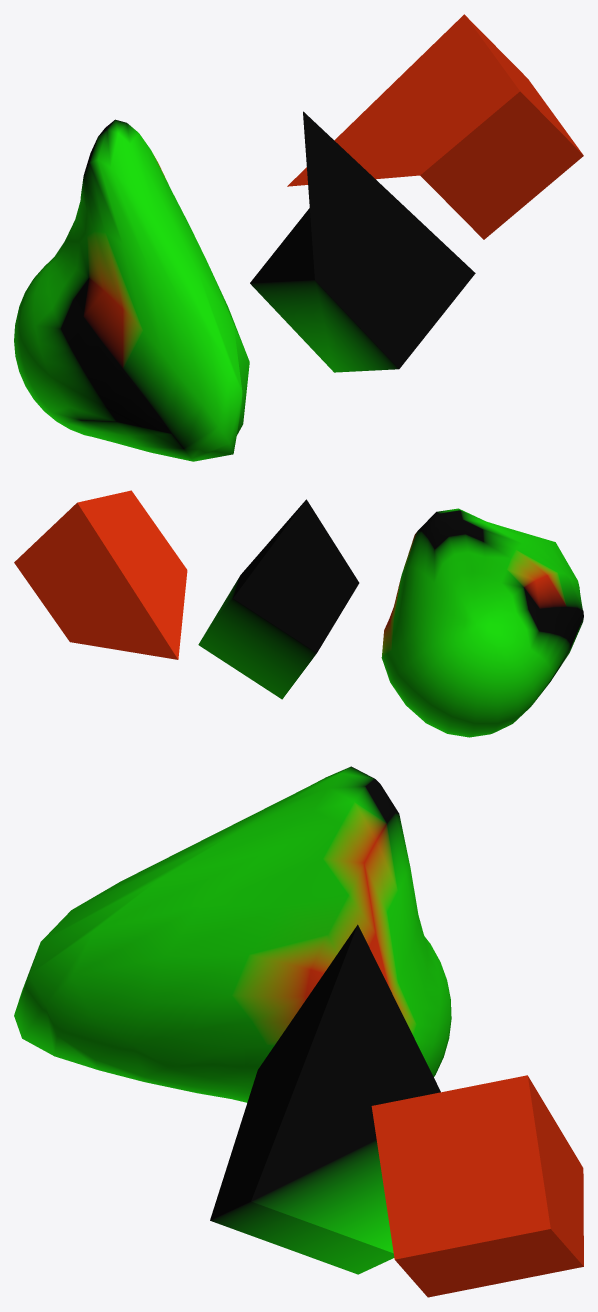
File: TestAllAttributes.fbx
3 views of the same model, one above another, from view 1: azimuth 30°, elevation 25°; view 2: azimuth 150°, elevation 25°; view 3: azimuth 270°, elevation 25° (orthographic). The views are drawn at different scales.
Parts seen in each view (by area): view 1: pCube3; view 2: pCube3; view 3: pCube3.
Part boxes in pixels (left/top/right/bottom): pCube3: left=14, top=14, right=583, bottom=461; pCube3: left=14, top=490, right=583, bottom=737; pCube3: left=14, top=766, right=583, bottom=1297.
Bounding box in the file's own units: 6.75 × 3.29 × 4.59.
